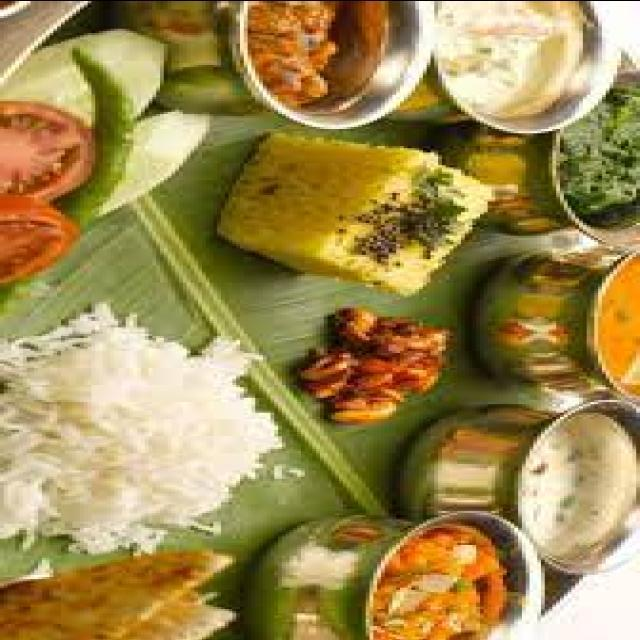dal: (224, 137, 508, 291), (572, 248, 640, 406)
rice: (15, 327, 291, 543)
roti: (14, 540, 259, 640)
sweet: (362, 513, 528, 640), (427, 5, 594, 125), (244, 4, 410, 116)
veg-fry: (214, 135, 519, 291), (0, 77, 112, 285), (359, 519, 525, 640)
